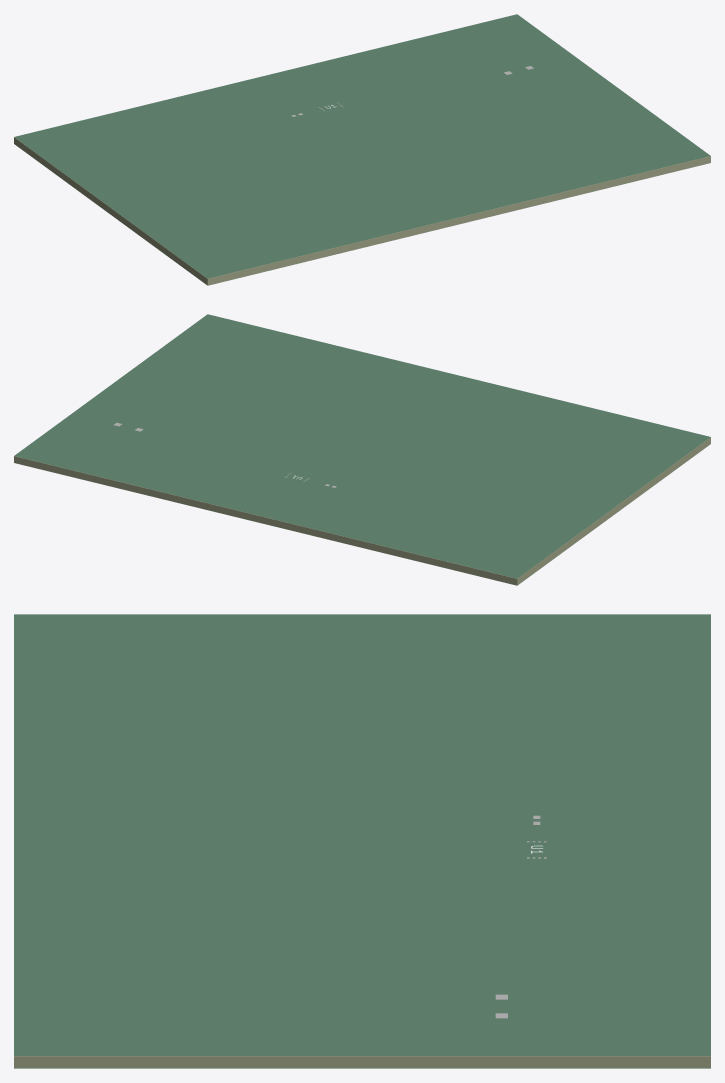
Rendered from pcba_preview.glb.
3 views of the same model, one above another, from view 1: azimuth 30°, elevation 25°; view 2: azimuth 150°, elevation 25°; view 3: azimuth 270°, elevation 25° (orthographic). The views are drawn at different scales.
Visible parts, largest first — view 1: =>[0:1:1:6], =>[0:1:1:4], =>[0:1:1:5]; view 2: =>[0:1:1:6], =>[0:1:1:4], =>[0:1:1:5]; view 3: =>[0:1:1:6], =>[0:1:1:4].
Part boxes in pixels (x1,y1,x2,y2): =>[0:1:1:6]: (14,15,710,285); =>[0:1:1:4]: (14,14,710,278); =>[0:1:1:5]: (16,145,708,285); =>[0:1:1:6]: (14,315,710,585); =>[0:1:1:4]: (14,314,710,578); =>[0:1:1:5]: (16,445,708,585); =>[0:1:1:6]: (14,615,710,1068); =>[0:1:1:4]: (14,614,710,1055).
Size of the model in its own units: 0.12 by 0.00163 by 0.08.
